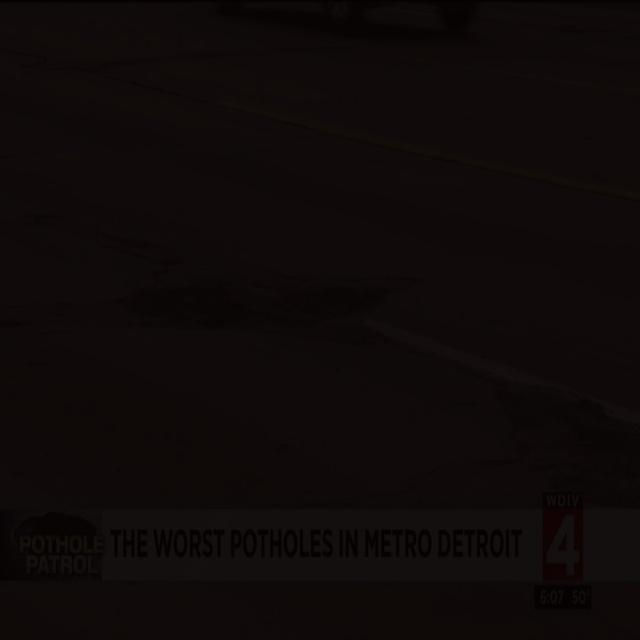Pothole: (504, 376, 640, 496), (138, 278, 246, 341), (279, 281, 397, 333)
